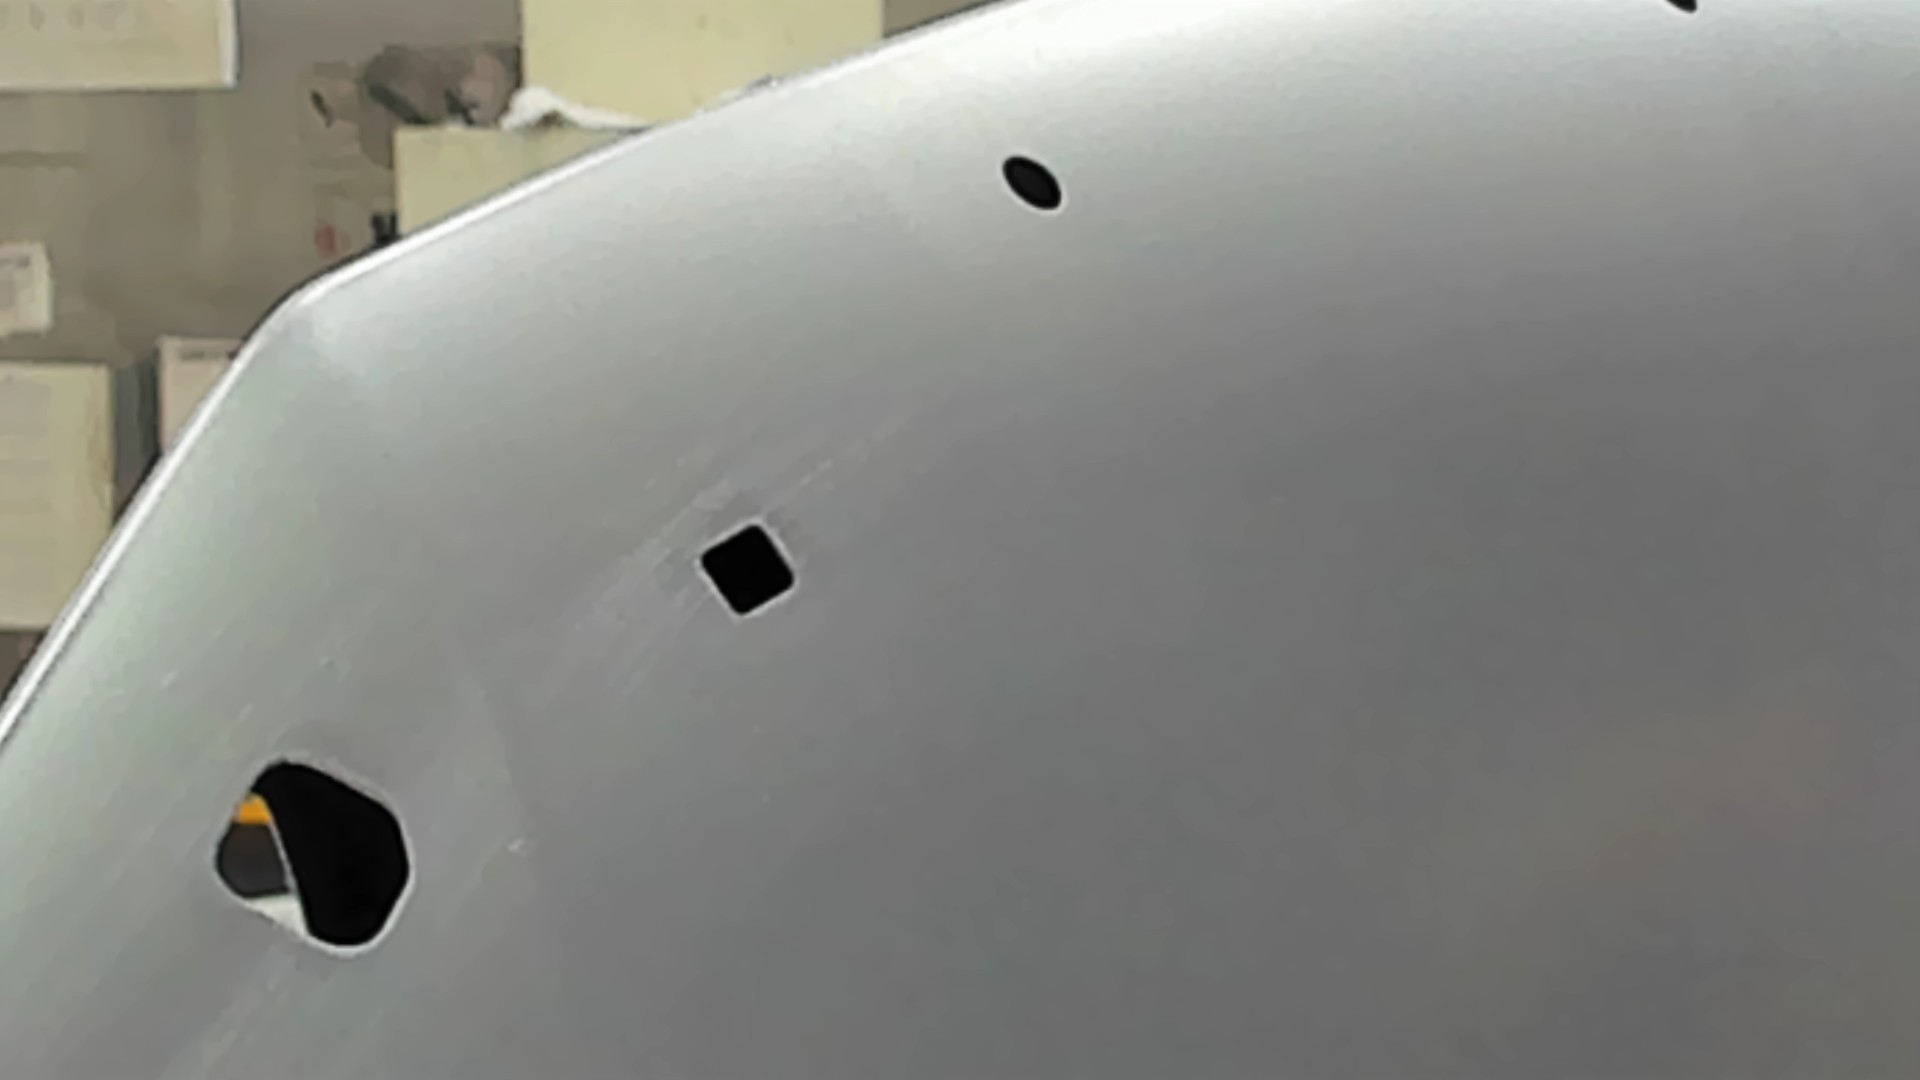chico: (997, 144, 1068, 215), (1659, 1, 1706, 18)
grande: (204, 750, 418, 964)
mediano: (687, 513, 802, 629)
